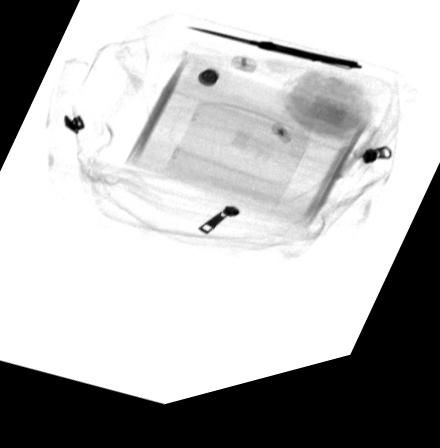Knife: (184, 34, 363, 89)
